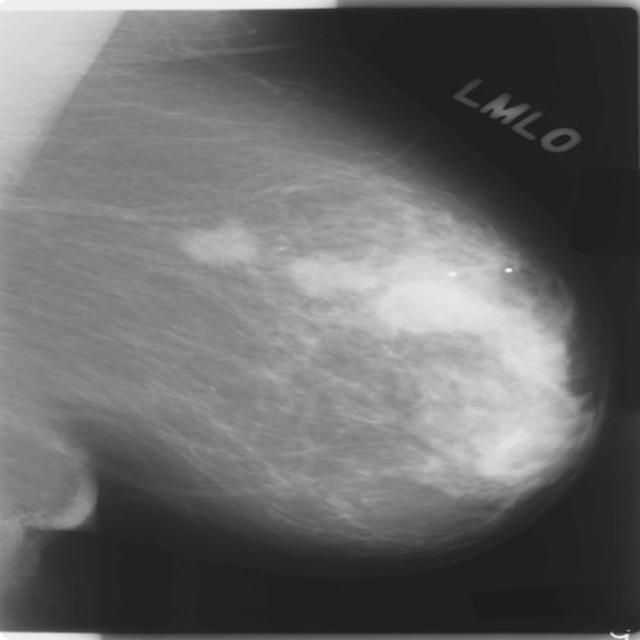tumour: (366, 273, 498, 332), (176, 224, 256, 264)
